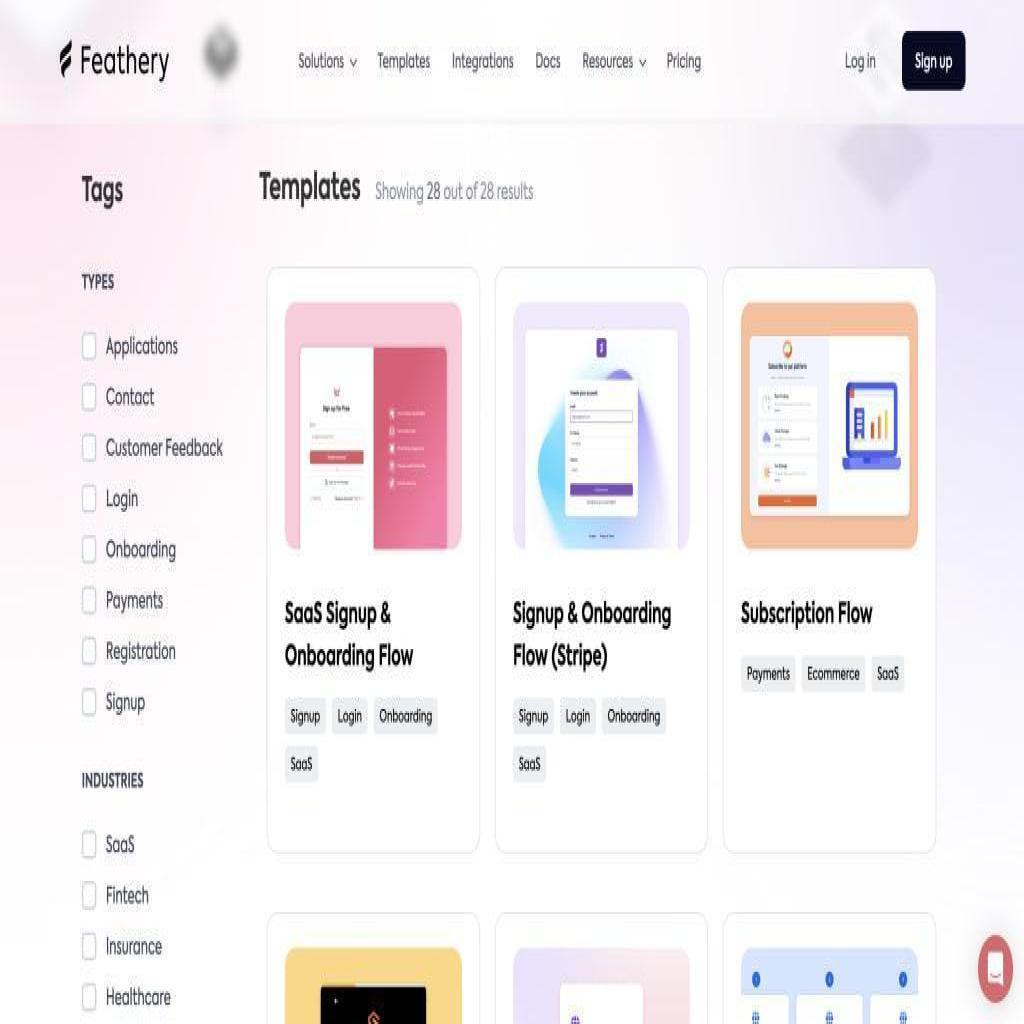button: (901, 29, 967, 91), (602, 698, 666, 734), (374, 698, 437, 734), (803, 655, 865, 690), (741, 657, 796, 690), (560, 696, 596, 734), (286, 698, 325, 732), (513, 700, 554, 732), (872, 655, 904, 694), (513, 746, 546, 782), (332, 700, 368, 732), (285, 746, 317, 780)
checkbox: (82, 688, 98, 719), (82, 829, 97, 860), (82, 931, 97, 962), (81, 535, 97, 564), (81, 881, 97, 910), (82, 332, 97, 362), (82, 382, 97, 412), (82, 636, 97, 666), (82, 485, 97, 514), (83, 586, 97, 616), (82, 984, 97, 1012), (82, 433, 97, 460)
icon: (978, 935, 1013, 1005)
label: (512, 597, 673, 676), (284, 595, 416, 674), (258, 164, 362, 211), (740, 599, 874, 634), (374, 178, 535, 205), (104, 432, 224, 466), (78, 41, 172, 83), (103, 533, 179, 566), (104, 980, 173, 1014), (107, 636, 178, 668), (105, 336, 184, 361), (298, 44, 359, 76), (81, 170, 126, 213), (581, 46, 648, 74), (103, 378, 158, 412), (106, 586, 164, 618), (106, 930, 162, 960), (80, 767, 145, 792), (452, 50, 514, 74), (103, 686, 148, 717), (104, 881, 152, 908), (377, 48, 431, 72), (665, 46, 703, 78), (844, 46, 878, 76), (81, 268, 116, 294), (104, 487, 140, 512), (106, 831, 137, 860), (535, 48, 561, 74)
